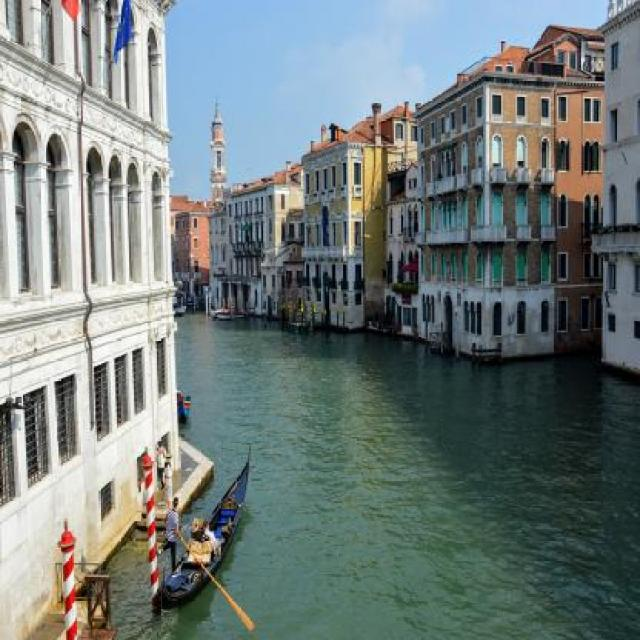ship: (158, 440, 252, 609), (208, 306, 244, 319)
